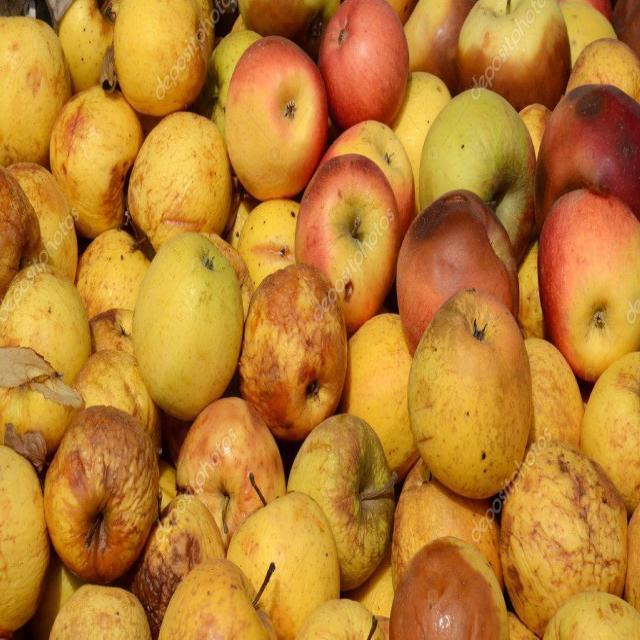Fresh Apple: (135, 248, 232, 402), (223, 58, 325, 197)
Rotten: (283, 422, 405, 583), (40, 416, 160, 576), (253, 274, 347, 458), (133, 118, 242, 240)
